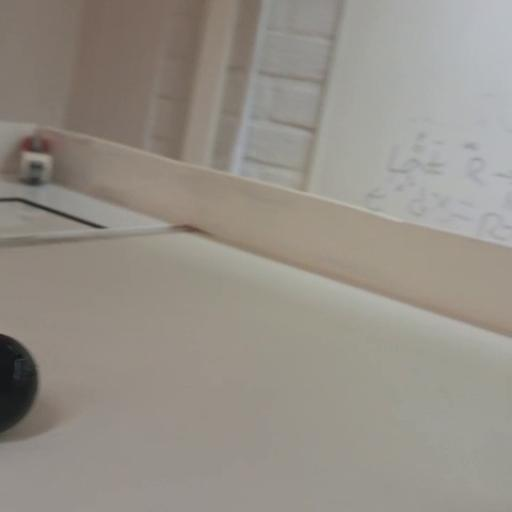dead: (0, 328, 40, 436)
